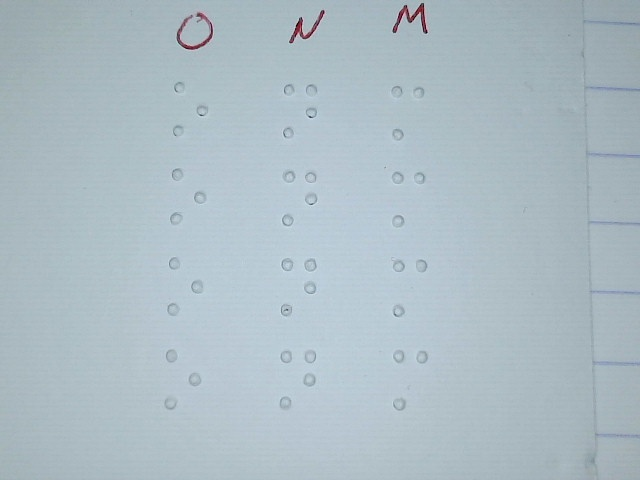M: (392, 257, 428, 318), (392, 348, 428, 409), (390, 83, 427, 140), (390, 170, 427, 227)
N: (278, 347, 317, 410), (279, 256, 318, 316), (282, 82, 319, 139), (281, 169, 318, 226)
O: (164, 348, 202, 408), (167, 254, 204, 315), (172, 80, 209, 137), (169, 167, 206, 224)
